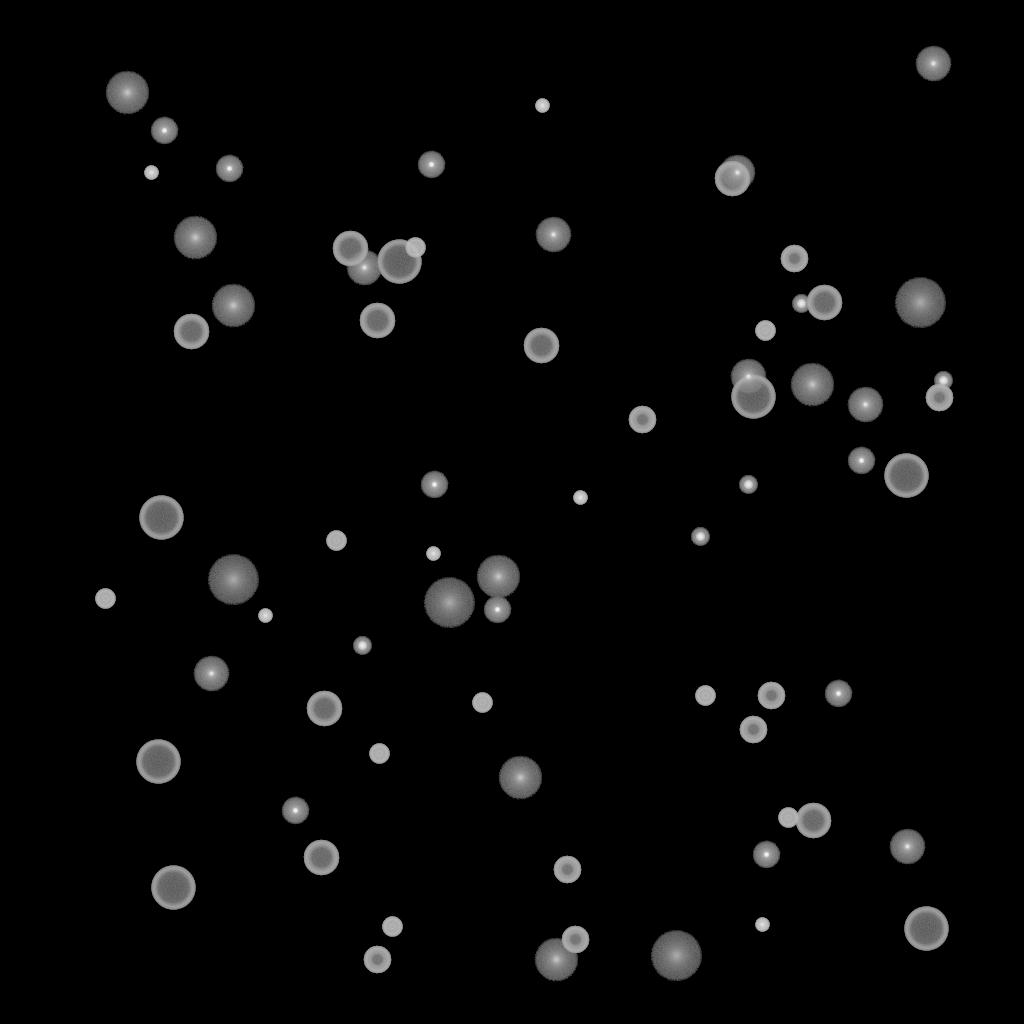depth:-10: (417, 151, 445, 179), (824, 680, 852, 708), (847, 447, 875, 475), (483, 596, 511, 624), (150, 117, 178, 145), (420, 471, 448, 499), (752, 841, 780, 869), (281, 797, 309, 825), (215, 155, 243, 183)
depth:-20: (739, 476, 757, 494), (934, 372, 952, 390), (353, 637, 371, 655), (691, 528, 709, 546), (792, 295, 810, 313)
depth:-30: (258, 609, 272, 623), (535, 99, 549, 113), (144, 166, 158, 180), (426, 547, 440, 561), (755, 918, 769, 932), (573, 491, 587, 505)
depth:-40: (95, 589, 115, 609), (326, 531, 346, 551), (369, 744, 389, 764), (382, 917, 402, 937), (755, 321, 775, 341), (695, 686, 715, 706), (472, 693, 492, 713), (778, 808, 798, 828), (405, 238, 425, 258)
depth:-50: (561, 926, 589, 954), (925, 384, 953, 412), (757, 682, 785, 710), (780, 245, 808, 273), (739, 716, 767, 744), (553, 856, 581, 884), (628, 406, 656, 434), (363, 946, 391, 974)
depth:-60: (303, 840, 339, 876), (173, 314, 209, 350), (714, 161, 750, 197), (332, 231, 368, 267), (306, 691, 342, 727), (795, 803, 831, 839), (359, 303, 395, 339), (806, 285, 842, 321), (523, 328, 559, 364)
depth:-70: (884, 454, 928, 498), (139, 496, 183, 540), (731, 375, 775, 419), (151, 866, 195, 910), (136, 740, 180, 784), (377, 240, 421, 284), (904, 907, 948, 951)
depth:0: (730, 359, 766, 395), (346, 250, 382, 286), (193, 656, 229, 692), (915, 46, 951, 82), (847, 387, 883, 423), (535, 217, 571, 253), (889, 829, 925, 865), (719, 155, 755, 191)
depth:10: (790, 363, 834, 407), (105, 71, 149, 115), (173, 216, 217, 260), (498, 756, 542, 800), (211, 284, 255, 328), (534, 938, 578, 982), (476, 555, 520, 599)
depth:20: (650, 931, 702, 981), (423, 578, 475, 628), (207, 555, 259, 605), (894, 278, 946, 328)
